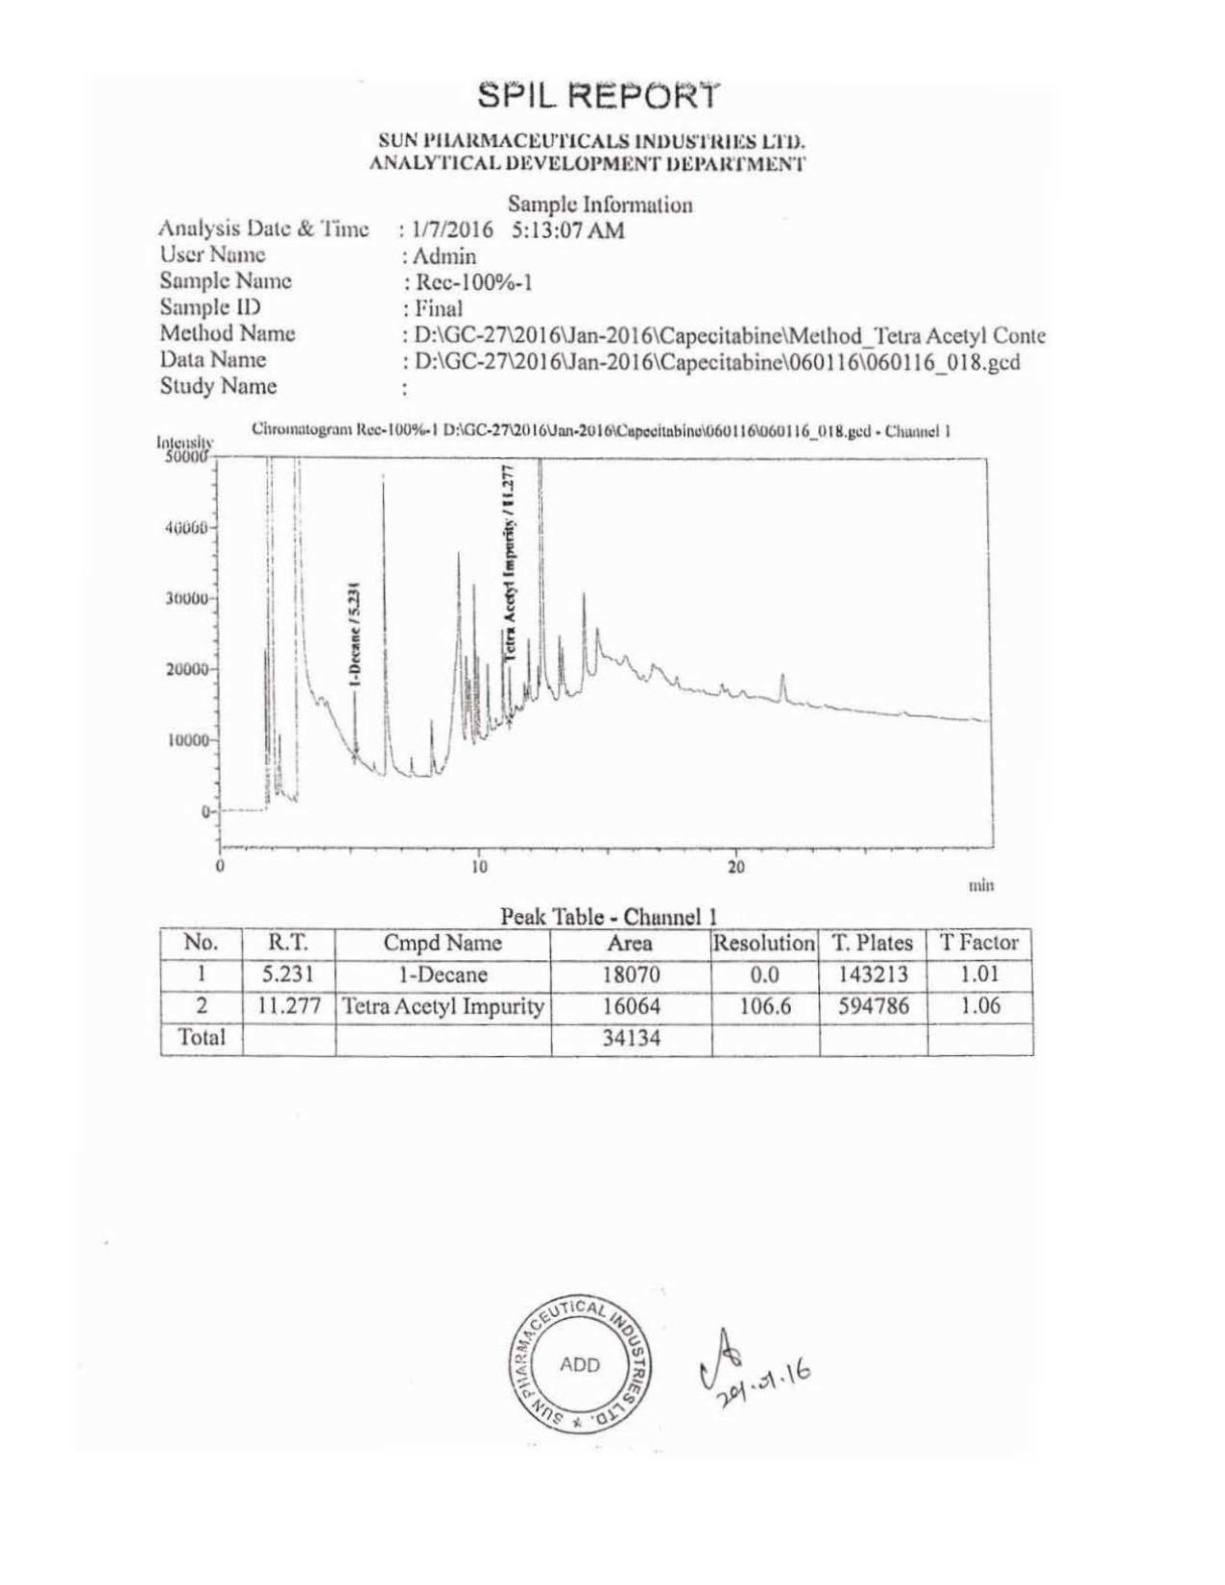full_lined: (158, 926, 1035, 1058)
nolines: (156, 217, 1051, 401)
